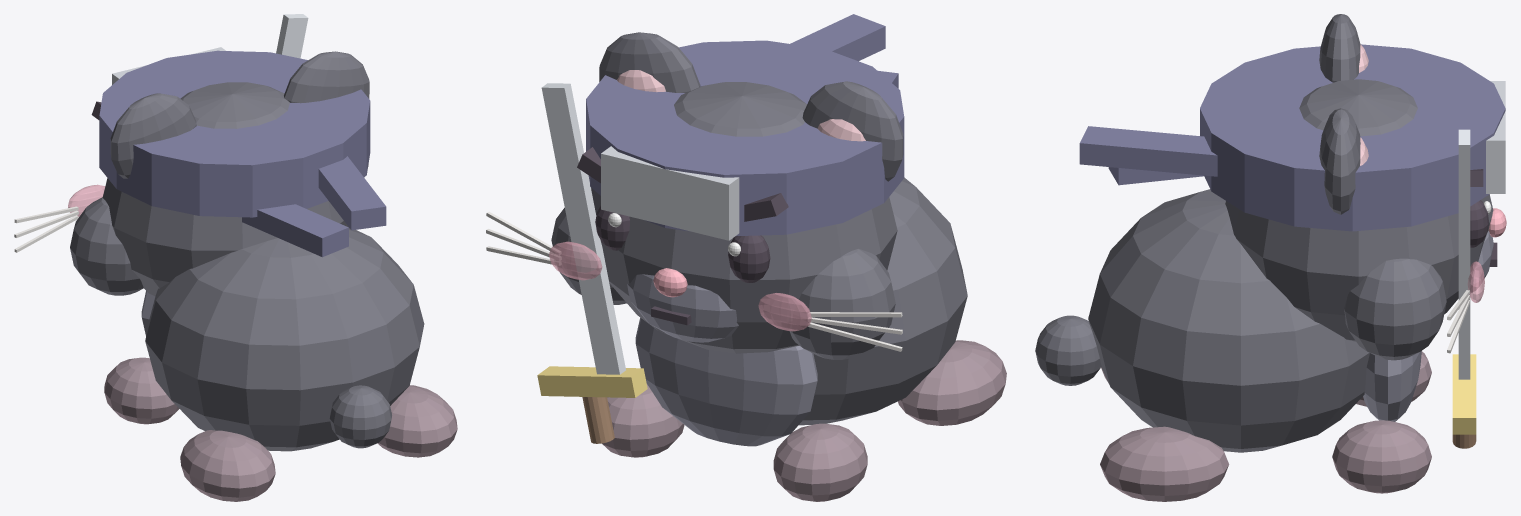
Rendered from RareHamsterNinja.glb.
The picture shows the model from 3 angles, left to right: view 1: azimuth 30°, elevation 25°; view 2: azimuth 150°, elevation 25°; view 3: azimuth 270°, elevation 25°; orthographic projection. The views are drawn at different scales.
Parts seen in each view (by area): view 1: RareHamsterNinja_1, RareHamsterNinja_2, RareHamsterNinja_4, RareHamsterNinja_7, RareHamsterNinja_8, RareHamsterNinja_10; view 2: RareHamsterNinja_1, RareHamsterNinja_2, RareHamsterNinja_3, RareHamsterNinja_4, RareHamsterNinja_7, RareHamsterNinja_6, RareHamsterNinja_0, RareHamsterNinja_10, RareHamsterNinja_12, RareHamsterNinja_8, RareHamsterNinja_11, RareHamsterNinja_5 (+1 smaller); view 3: RareHamsterNinja_1, RareHamsterNinja_2, RareHamsterNinja_4, RareHamsterNinja_3, RareHamsterNinja_7, RareHamsterNinja_12, RareHamsterNinja_6, RareHamsterNinja_0, RareHamsterNinja_8, RareHamsterNinja_10.
Part boxes in pixels (x1,y1,x2,y2): RareHamsterNinja_1: [70, 51, 424, 451]; RareHamsterNinja_2: [99, 50, 386, 257]; RareHamsterNinja_4: [104, 357, 457, 501]; RareHamsterNinja_7: [276, 14, 308, 58]; RareHamsterNinja_8: [14, 164, 368, 252]; RareHamsterNinja_10: [68, 184, 105, 216]; RareHamsterNinja_1: [551, 32, 967, 425]; RareHamsterNinja_2: [586, 14, 904, 236]; RareHamsterNinja_3: [627, 274, 817, 446]; RareHamsterNinja_4: [602, 340, 1006, 501]; RareHamsterNinja_7: [541, 83, 625, 374]; RareHamsterNinja_6: [601, 146, 739, 240]; RareHamsterNinja_0: [577, 147, 788, 325]; RareHamsterNinja_10: [549, 241, 811, 331]; RareHamsterNinja_12: [537, 366, 647, 397]; RareHamsterNinja_8: [486, 211, 902, 351]; RareHamsterNinja_11: [617, 70, 865, 141]; RareHamsterNinja_5: [582, 397, 614, 443]; RareHamsterNinja_1: [1035, 14, 1493, 452]; RareHamsterNinja_2: [1079, 44, 1505, 231]; RareHamsterNinja_4: [1100, 351, 1431, 501]; RareHamsterNinja_3: [1363, 231, 1493, 421]; RareHamsterNinja_7: [1458, 129, 1470, 379]; RareHamsterNinja_12: [1452, 354, 1476, 434]; RareHamsterNinja_6: [1486, 81, 1505, 193]; RareHamsterNinja_0: [1470, 169, 1497, 266]; RareHamsterNinja_8: [1447, 290, 1469, 353]; RareHamsterNinja_10: [1467, 261, 1484, 302].
Size of the model in its own units: 3.89 by 3.57 by 4.01.
